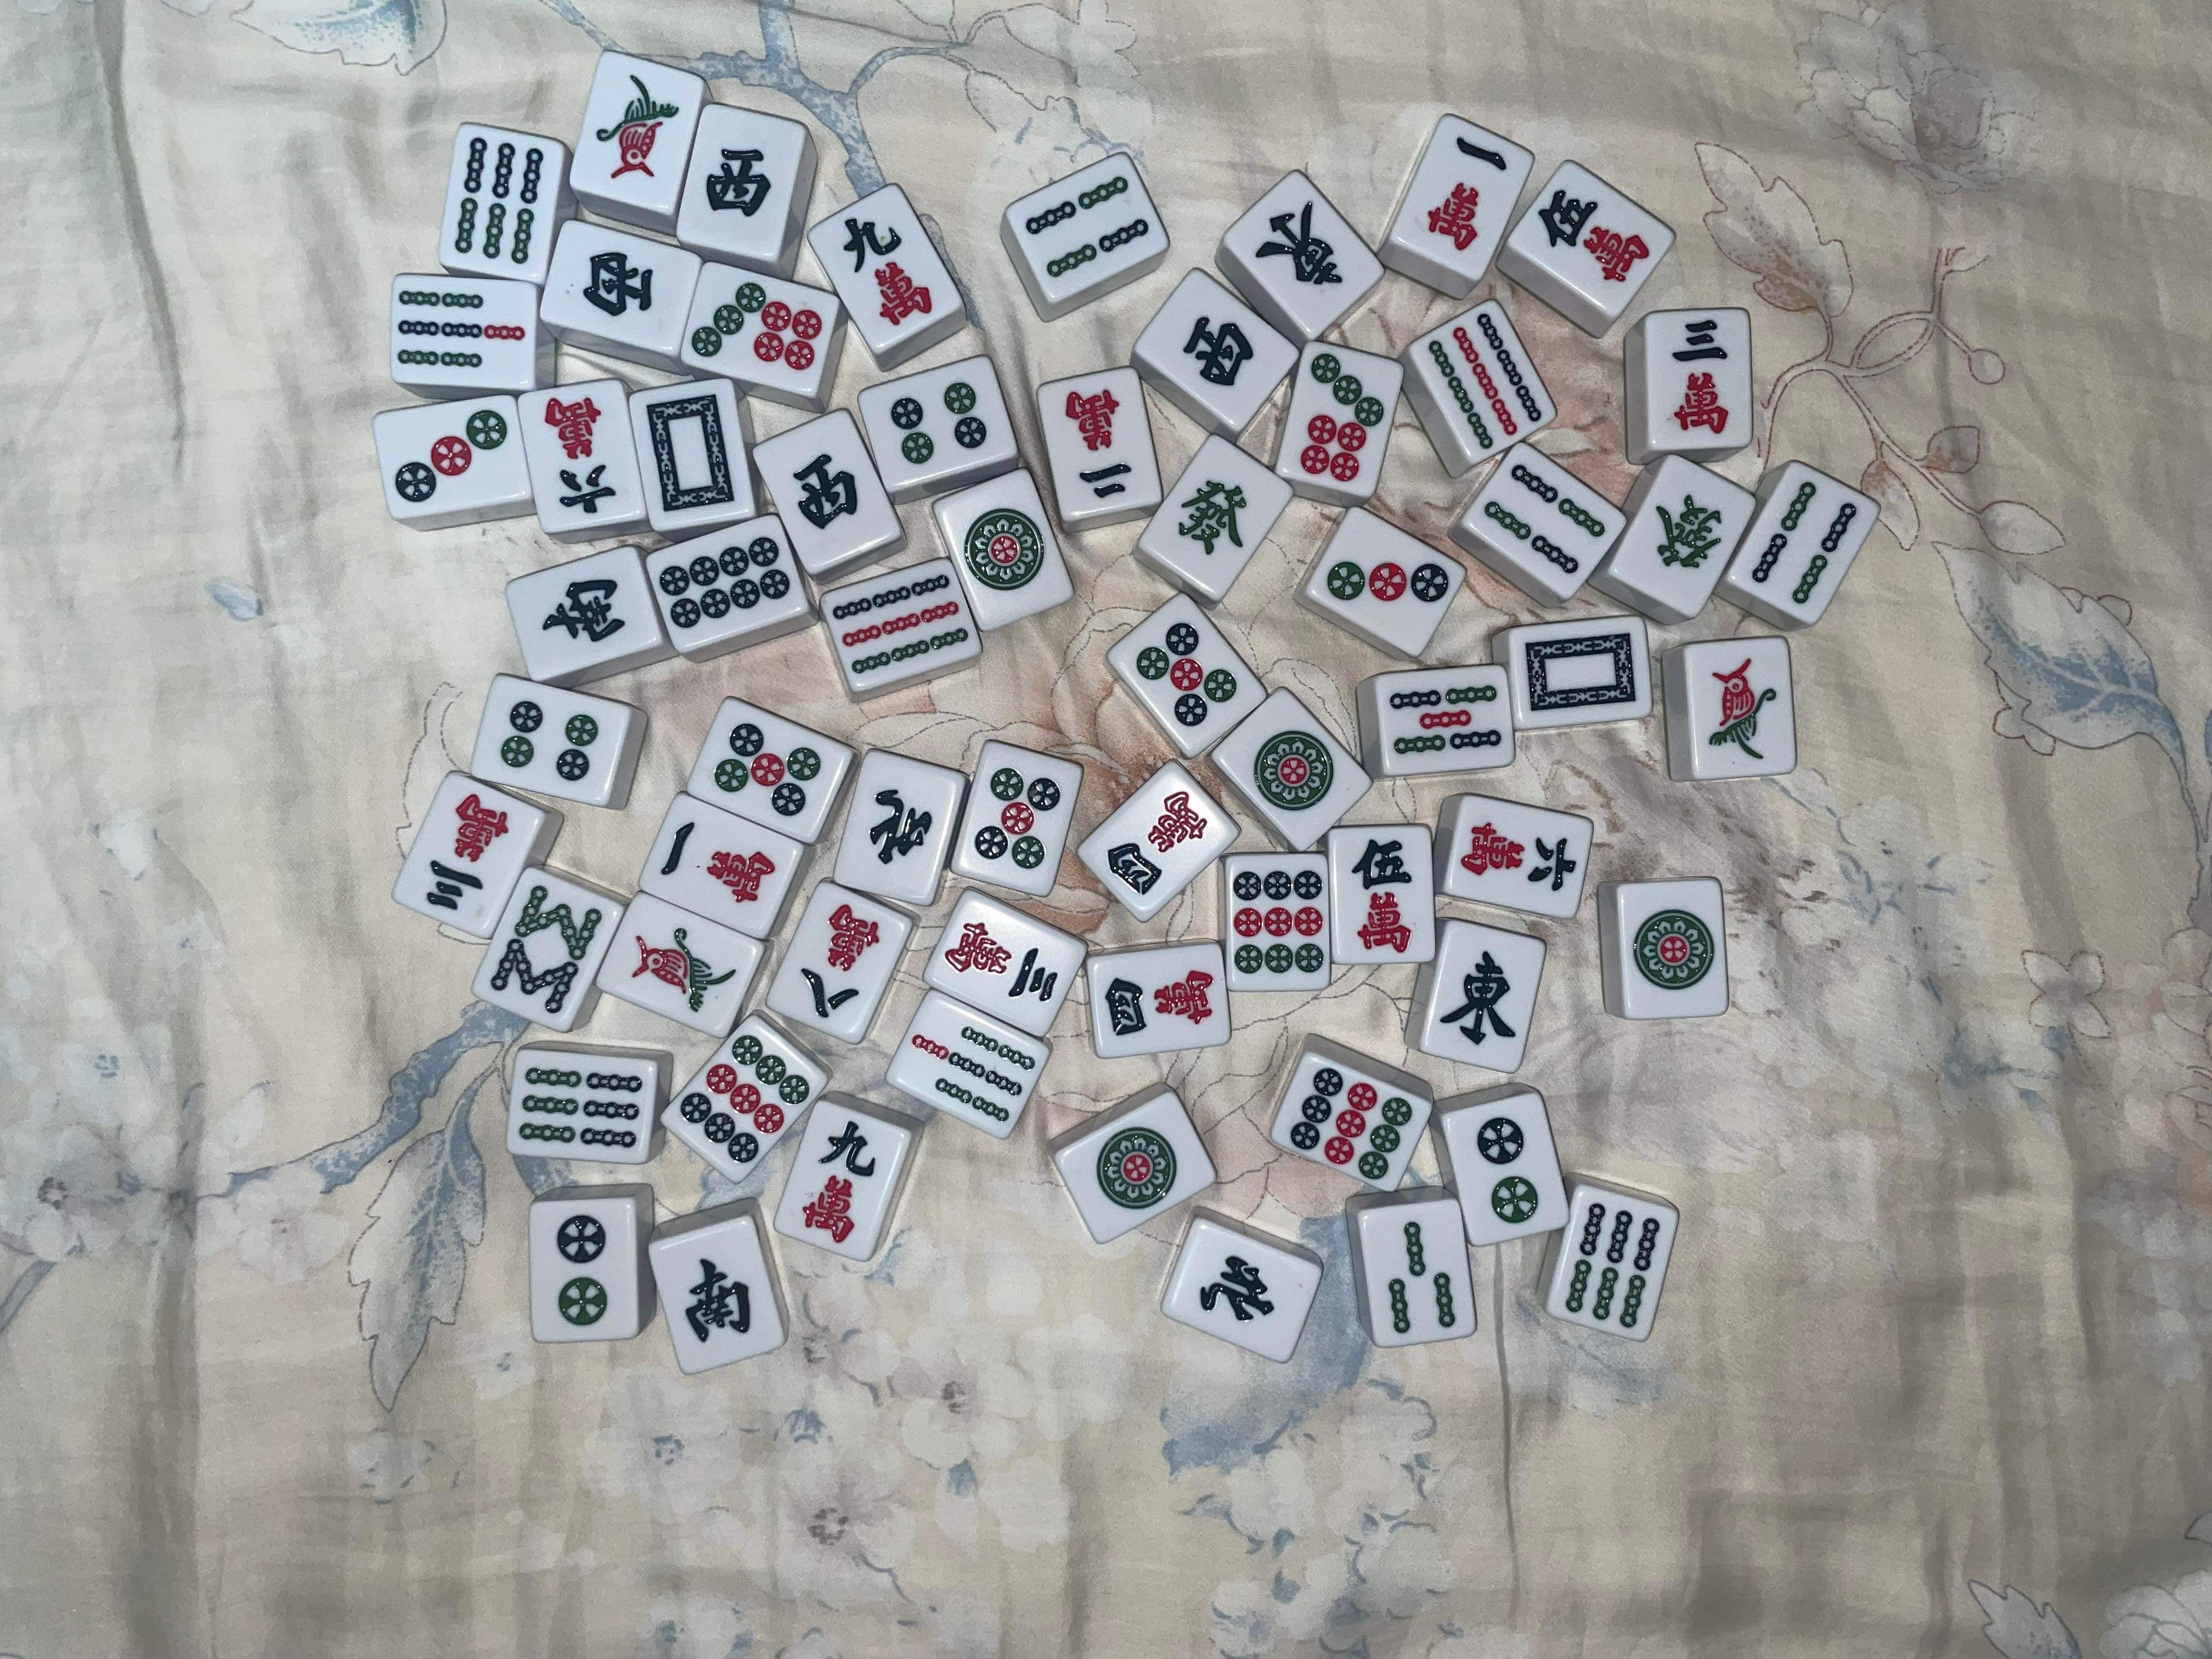b-1: (588, 71, 680, 182), (1707, 654, 1781, 764)
b-3: (1387, 1221, 1456, 1336)
b-4: (1749, 479, 1859, 607), (1483, 464, 1606, 576), (1023, 175, 1149, 280)
b-5: (1385, 686, 1504, 757)
b-6: (450, 137, 546, 269), (1566, 1203, 1661, 1329)
b-7: (394, 288, 527, 378)
b-9: (1427, 313, 1542, 450), (832, 572, 968, 676)
c-1: (1421, 136, 1511, 253), (658, 820, 776, 904)
c-2: (1056, 386, 1139, 498)
c-3: (425, 794, 509, 911), (943, 921, 1060, 1002), (1669, 316, 1732, 441)
c-4: (1101, 789, 1209, 897), (1105, 969, 1215, 1036)
c-5: (1538, 187, 1653, 284), (1351, 837, 1417, 952)
c-6: (538, 396, 622, 517), (1462, 821, 1577, 897)
c-8: (801, 901, 882, 1015)
c-9: (837, 215, 938, 327), (803, 1118, 877, 1246)
d-1: (628, 924, 740, 1013), (962, 505, 1046, 595), (1632, 907, 1717, 994), (1096, 1127, 1177, 1211), (1252, 729, 1334, 812)
d-2: (1473, 1116, 1544, 1226), (554, 1215, 611, 1329)
d-3: (386, 408, 516, 506), (1324, 558, 1450, 606)
d-4: (497, 698, 603, 782), (890, 382, 988, 465)
d-5: (1133, 622, 1238, 729), (710, 721, 822, 817), (973, 768, 1062, 870)
d-6: (517, 1064, 645, 1150)
d-7: (907, 1024, 1036, 1125), (690, 280, 825, 371), (1299, 353, 1384, 482)
d-8: (489, 885, 603, 1015), (659, 537, 789, 628)
d-9: (676, 1034, 810, 1167), (1289, 1066, 1415, 1179), (1231, 868, 1324, 974)
honors-east: (1252, 199, 1347, 294), (1440, 950, 1518, 1047)
honors-green: (1652, 492, 1724, 577), (1178, 472, 1246, 555)
honors-north: (1197, 1254, 1276, 1333), (866, 785, 933, 865)
honors-south: (531, 577, 631, 644), (684, 1254, 754, 1348)
honors-west: (1181, 311, 1256, 392), (701, 143, 778, 219), (788, 451, 860, 529), (578, 249, 655, 317)
honors-white: (645, 391, 740, 512), (1522, 631, 1638, 713)
